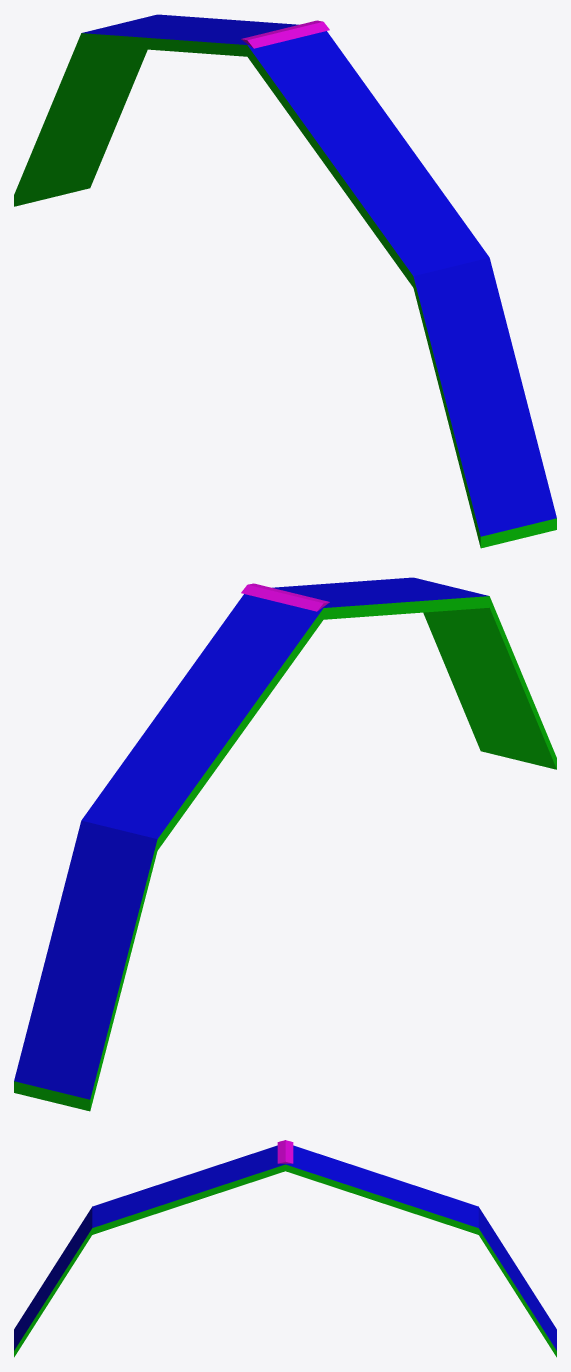
File: roof_mansard.glb
The picture shows the model from 3 angles, top to bottom: view 1: azimuth 30°, elevation 25°; view 2: azimuth 150°, elevation 25°; view 3: azimuth 270°, elevation 25°; orthographic projection. The views are drawn at different scales.
Visible parts, largest first — view 1: roof_mansard; view 2: roof_mansard; view 3: roof_mansard.
Part boxes in pixels (left/top/right/bottom): roof_mansard: left=14, top=14, right=556, bottom=548; roof_mansard: left=14, top=577, right=556, bottom=1111; roof_mansard: left=14, top=1140, right=556, bottom=1357.
Bounding box in the file's own units: 1 × 4.23 × 10.6.
